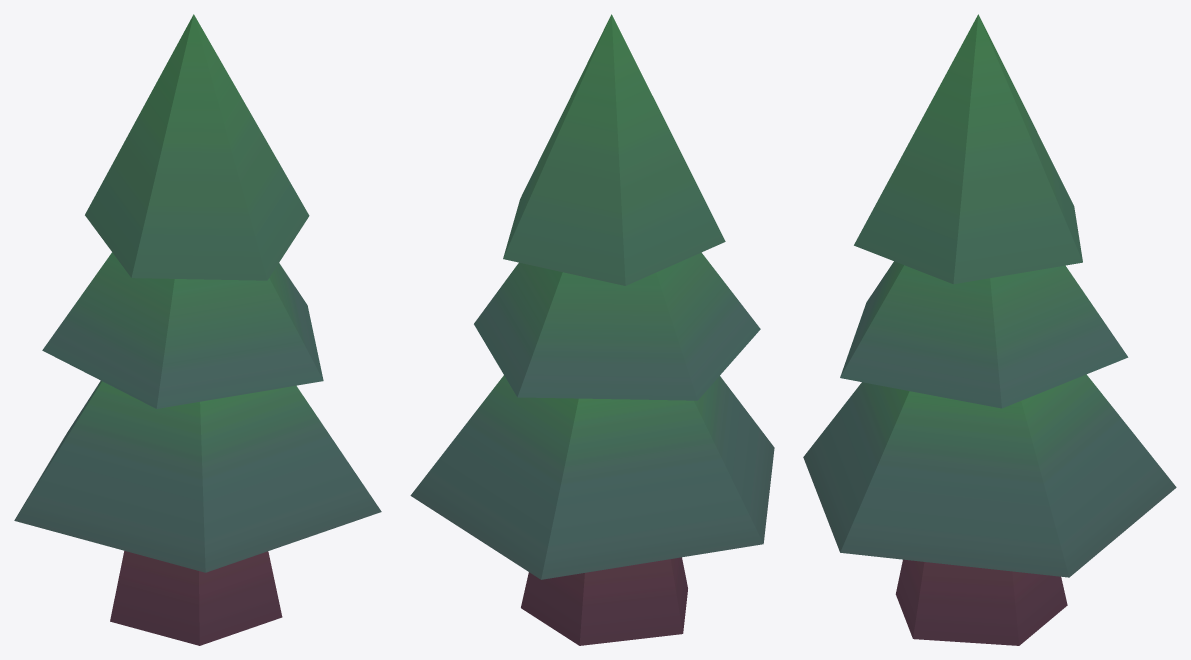
File: village_town_tree_pine.glb
3 views of the same model, side by side, from view 1: azimuth 30°, elevation 25°; view 2: azimuth 150°, elevation 25°; view 3: azimuth 270°, elevation 25° (orthographic).
Visible parts, largest first — view 1: Tree_Pine.001_Material.005_0; view 2: Tree_Pine.001_Material.005_0; view 3: Tree_Pine.001_Material.005_0.
Part boxes in pixels (x1=…): Tree_Pine.001_Material.005_0: x1=14, y1=14, x2=381, y2=645; Tree_Pine.001_Material.005_0: x1=410, y1=14, x2=774, y2=645; Tree_Pine.001_Material.005_0: x1=803, y1=14, x2=1176, y2=645.
Size of the model in its own units: 1.54 by 2.72 by 1.54.
1 material, 1 textured.
